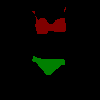mutande: (32, 55, 65, 75)
reggiseno: (32, 7, 66, 34)
